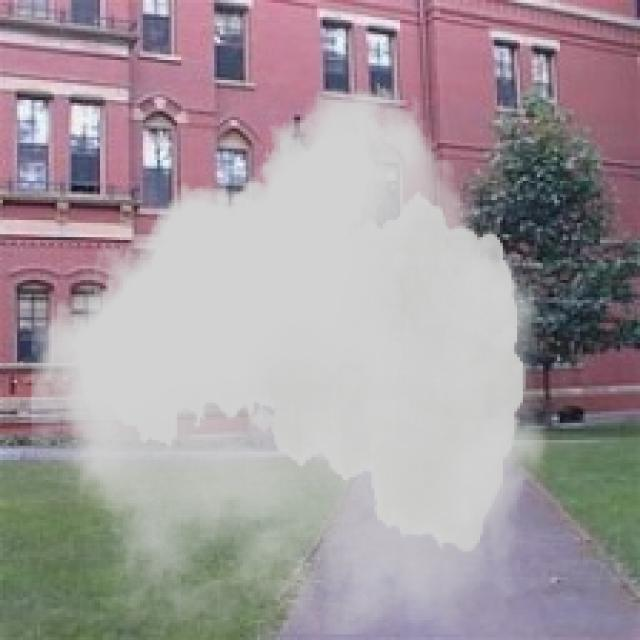Smoke: (31, 88, 548, 634)
